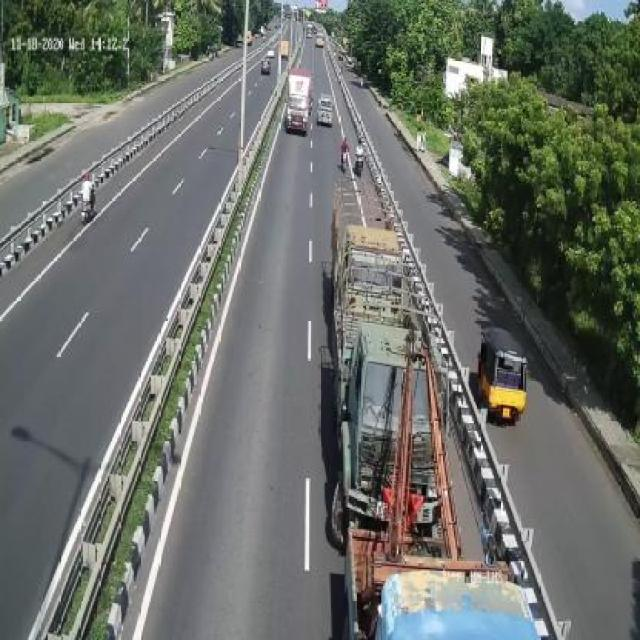car: (317, 88, 337, 130)
